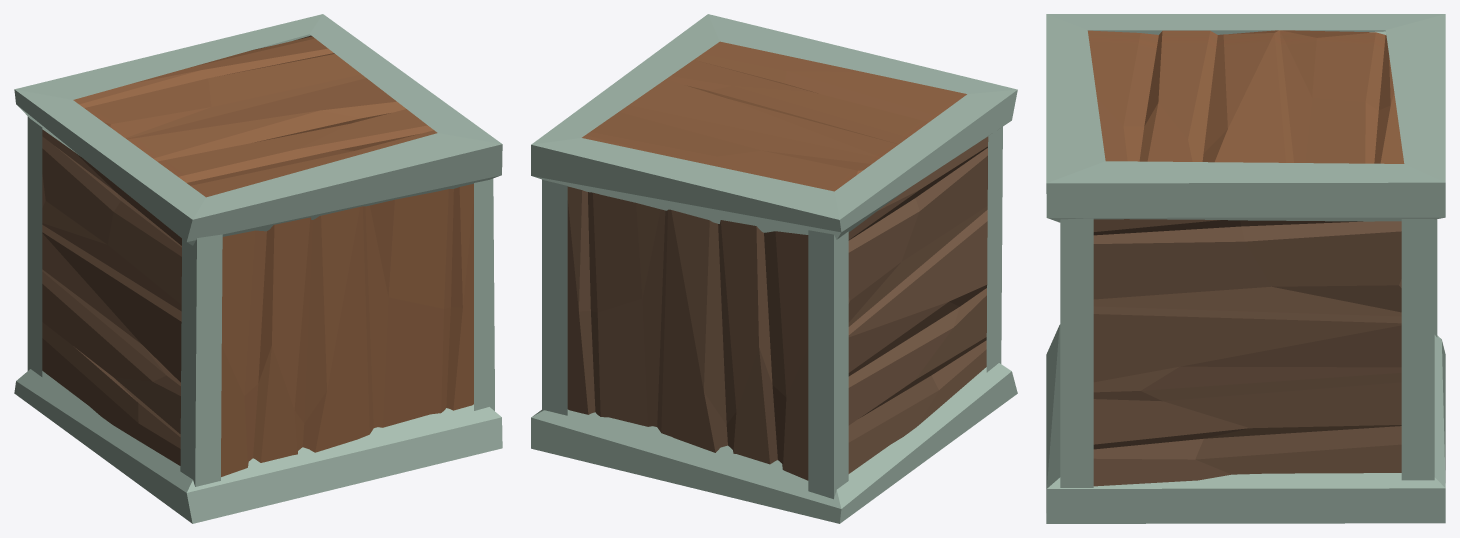
File: SM_L_Wooden_Box.fbx
3 views of the same model, side by side, from view 1: azimuth 30°, elevation 25°; view 2: azimuth 150°, elevation 25°; view 3: azimuth 270°, elevation 25° (orthographic). The views are drawn at different scales.
Visible parts, largest first — view 1: SM_L_Wooden_Box1; view 2: SM_L_Wooden_Box1; view 3: SM_L_Wooden_Box1.
Part boxes in pixels (x1=…): SM_L_Wooden_Box1: x1=14, y1=14, x2=502, y2=523; SM_L_Wooden_Box1: x1=531, y1=14, x2=1017, y2=523; SM_L_Wooden_Box1: x1=1046, y1=14, x2=1445, y2=523.
Bounding box in the file's own units: 113 × 107 × 113.
